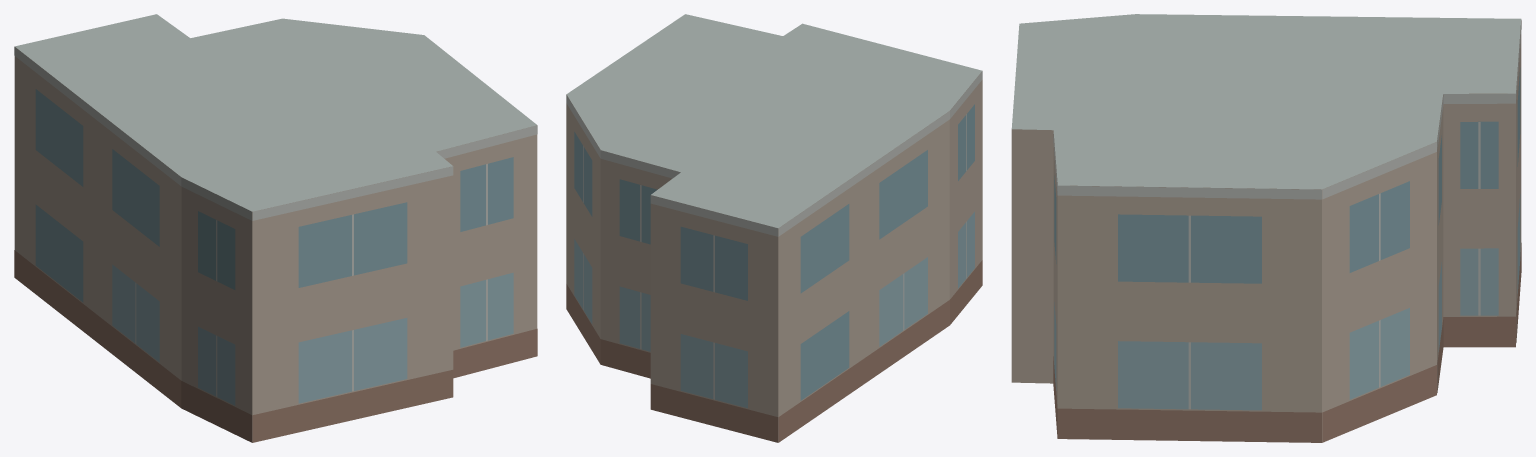
The model's file is survey-upis-32827978.glb.
3 renders of one model, left to right at view 1: azimuth 30°, elevation 25°; view 2: azimuth 150°, elevation 25°; view 3: azimuth 270°, elevation 25°, orthographic. The views are drawn at different scales.
Parts seen in each view (by area): view 1: survey-upis-32827978.tmp; view 2: survey-upis-32827978.tmp; view 3: survey-upis-32827978.tmp.
Boxes of the visible parts, x1,y1,x2,y2 form: survey-upis-32827978.tmp: (14,14,537,442); survey-upis-32827978.tmp: (566,14,982,442); survey-upis-32827978.tmp: (1011,14,1521,442).
Bounding box in the file's own units: 9.07 × 6.1 × 11.13.
